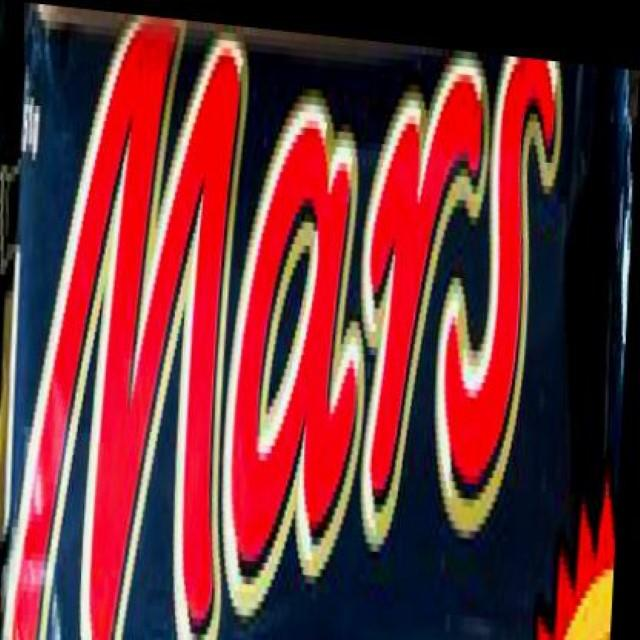mars_chocolate: (16, 36, 595, 640)
